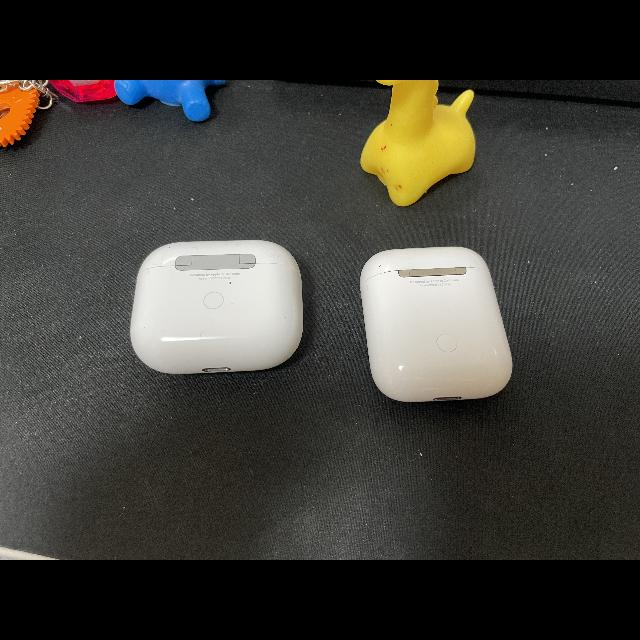airpod2: (356, 240, 522, 406)
airpod3: (124, 230, 308, 384)
